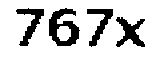6: (47, 6, 79, 50)
7: (83, 5, 118, 49), (15, 4, 46, 50)
x: (115, 14, 152, 51)
